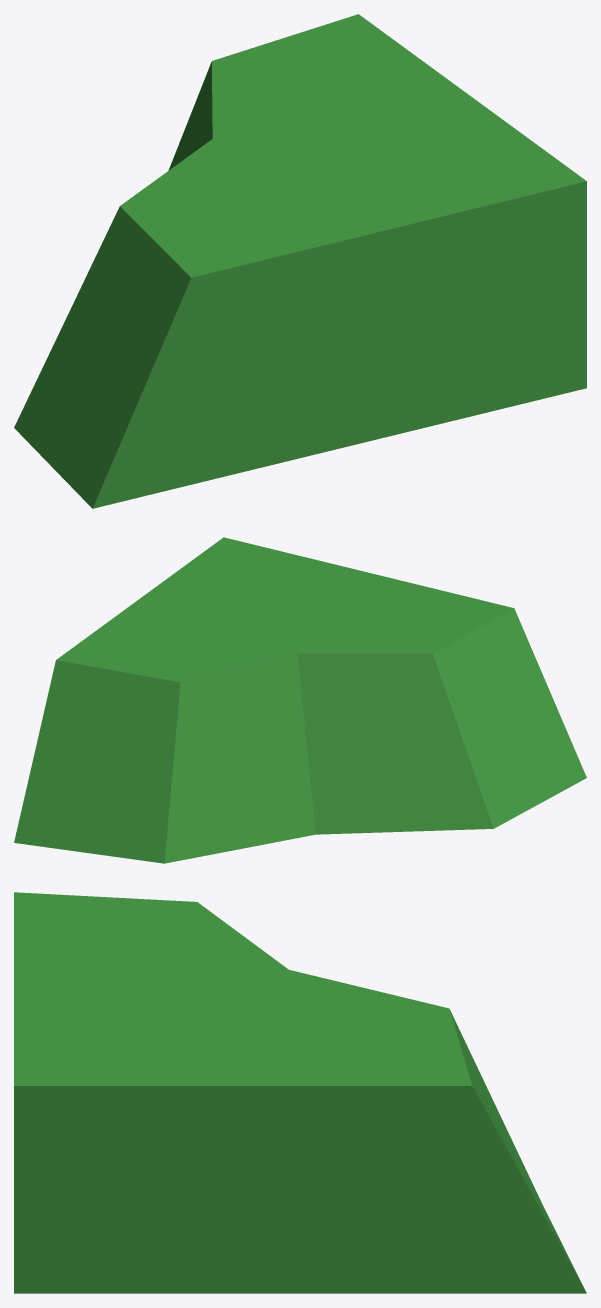
The model's file is pond_corner_convex_002.fbx.
The picture shows the model from 3 angles, top to bottom: view 1: azimuth 30°, elevation 25°; view 2: azimuth 150°, elevation 25°; view 3: azimuth 270°, elevation 25°; orthographic projection. The views are drawn at different scales.
Parts seen in each view (by area): view 1: pond.corner.convex.002; view 2: pond.corner.convex.002; view 3: pond.corner.convex.002.
Boxes of the visible parts, x1,y1,x2,y2 form: pond.corner.convex.002: (14,14,586,508); pond.corner.convex.002: (14,537,586,863); pond.corner.convex.002: (14,892,586,1293).
Size of the model in its own units: 250 by 100 by 250.
